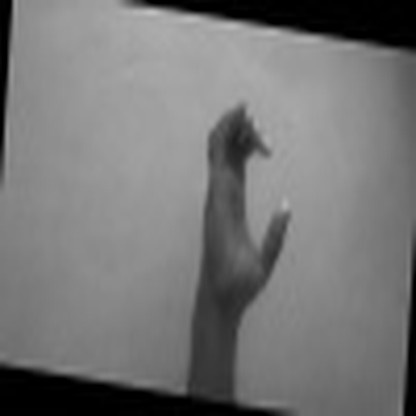c: (195, 97, 295, 298)
